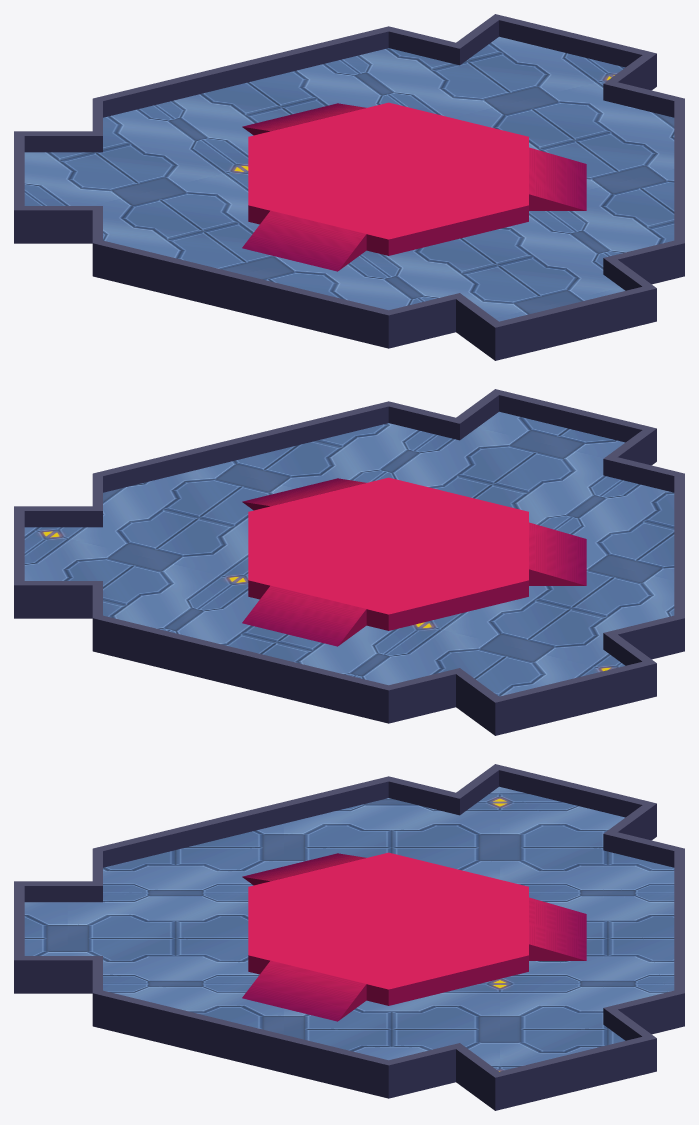
Rendered from battle_stage_30.fbx.
3 views of the same model, one above another, from view 1: azimuth 30°, elevation 25°; view 2: azimuth 150°, elevation 25°; view 3: azimuth 270°, elevation 25° (orthographic).
Parts seen in each view (by area): view 1: Cylinder.072, Cylinder.060, Cylinder.075, Cylinder.078, Cylinder.077, Cylinder.076; view 2: Cylinder.072, Cylinder.060, Cylinder.075, Cylinder.076, Cylinder.078, Cylinder.077; view 3: Cylinder.072, Cylinder.060, Cylinder.075, Cylinder.077, Cylinder.076, Cylinder.078.
Boxes of the visible parts, bbox=[...] form: Cylinder.072: bbox=[24, 36, 674, 321]; Cylinder.060: bbox=[14, 14, 684, 360]; Cylinder.075: bbox=[248, 102, 528, 255]; Cylinder.078: bbox=[242, 210, 366, 271]; Cylinder.077: bbox=[529, 147, 586, 210]; Cylinder.076: bbox=[242, 103, 366, 135]; Cylinder.072: bbox=[24, 411, 674, 696]; Cylinder.060: bbox=[14, 389, 684, 735]; Cylinder.075: bbox=[248, 477, 528, 630]; Cylinder.076: bbox=[242, 585, 366, 646]; Cylinder.078: bbox=[529, 522, 586, 585]; Cylinder.077: bbox=[242, 478, 366, 510]; Cylinder.072: bbox=[24, 786, 674, 1071]; Cylinder.060: bbox=[14, 764, 684, 1110]; Cylinder.075: bbox=[248, 852, 528, 1005]; Cylinder.077: bbox=[242, 960, 366, 1021]; Cylinder.076: bbox=[529, 897, 586, 960]; Cylinder.078: bbox=[242, 853, 366, 885].
Size of the model in its own units: 8106 by 400 by 7326.
